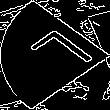L_SE: (15, 27, 95, 83)
